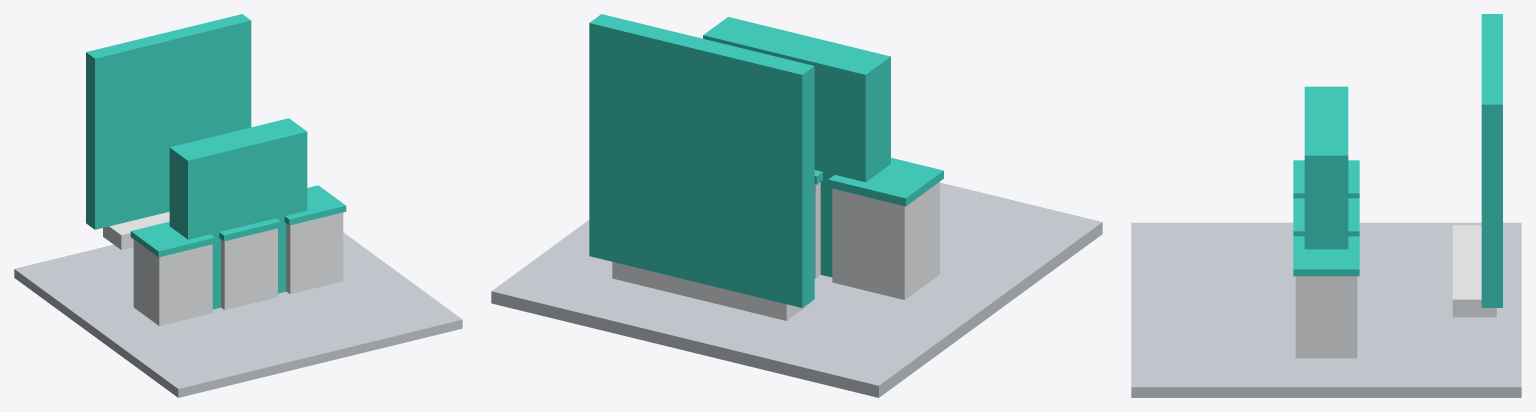
The picture shows the model from 3 angles, left to right: view 1: azimuth 30°, elevation 25°; view 2: azimuth 150°, elevation 25°; view 3: azimuth 270°, elevation 25°; orthographic projection. The views are drawn at different scales.
Parts seen in each view (by area): view 1: Exhibition Booth Concept; view 2: Exhibition Booth Concept; view 3: Exhibition Booth Concept.
Boxes of the visible parts, <box> form: Exhibition Booth Concept: <box>14,14,462,397</box>; Exhibition Booth Concept: <box>491,14,1102,397</box>; Exhibition Booth Concept: <box>1131,14,1521,397</box>.
Bounding box in the file's own units: 4 × 2.9 × 4.
